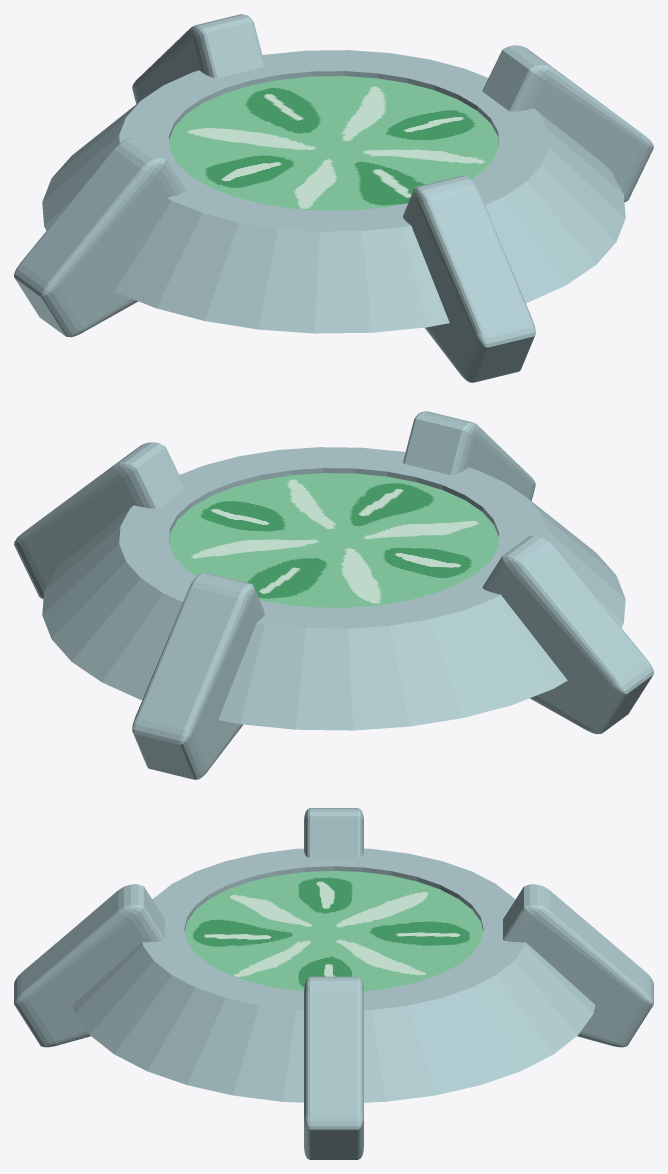
File: MedBay-scan.glb
The picture shows the model from 3 angles, top to bottom: view 1: azimuth 30°, elevation 25°; view 2: azimuth 150°, elevation 25°; view 3: azimuth 270°, elevation 25°; orthographic projection. The views are drawn at different scales.
Visible parts, largest first — view 1: Cube.003; view 2: Cube.003; view 3: Cube.003.
Part boxes in pixels (left/top/right/bottom): Cube.003: left=14, top=14, right=653, bottom=382; Cube.003: left=14, top=411, right=653, bottom=779; Cube.003: left=14, top=808, right=653, bottom=1159.
Size of the model in its own units: 12.79 by 3.14 by 12.79.
Materials: 1 (1 with a texture image).
